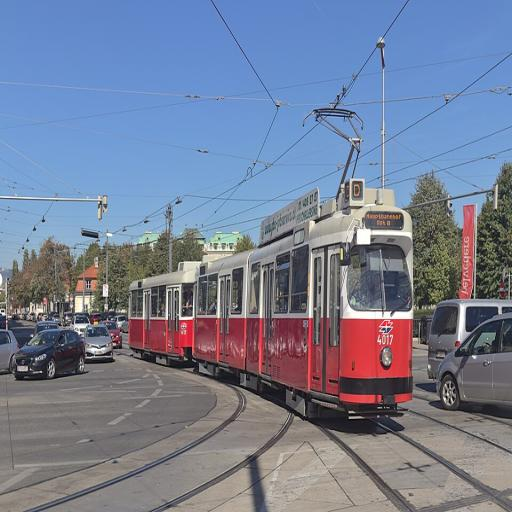E2-Tram: (125, 181, 418, 424)
